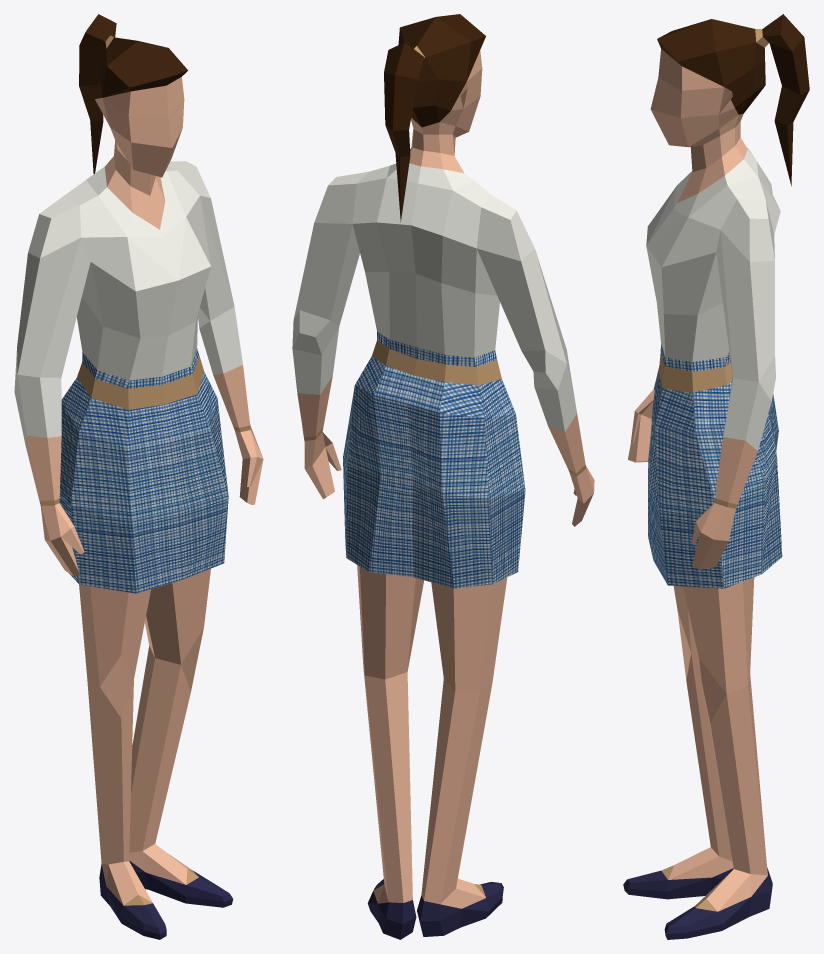
File: SpringWomanB.006.glb
The picture shows the model from 3 angles, left to right: view 1: azimuth 30°, elevation 25°; view 2: azimuth 150°, elevation 25°; view 3: azimuth 270°, elevation 25°; orthographic projection. The views are drawn at different scales.
Visible parts, largest first — view 1: SpringWomanB.007; view 2: SpringWomanB.007; view 3: SpringWomanB.007.
Boxes of the visible parts, x1,y1,x2,y2 form: SpringWomanB.007: (14,14,263,939); SpringWomanB.007: (292,14,594,939); SpringWomanB.007: (623,14,809,939).
Size of the model in its own units: 0.5082 by 1.72 by 0.327.
1 material, 1 textured.
